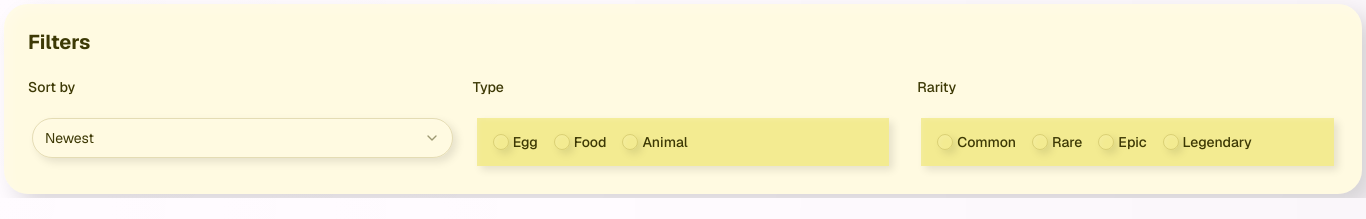
MarketplaceFilters › shows clear filters button only when filters are active
This screenshot has width=1366, height=219.
Check: the text "Clear all" is not shown
Click the checkbox named "egg" next to "Egg" at (501, 142), box top-left (493, 134), bottom-right (509, 150)
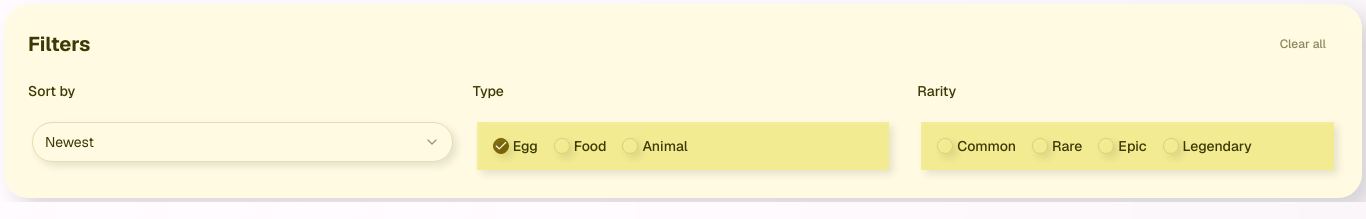
Check: the button "Clear all" is shown, box top-left (1268, 28), bottom-right (1338, 60)
